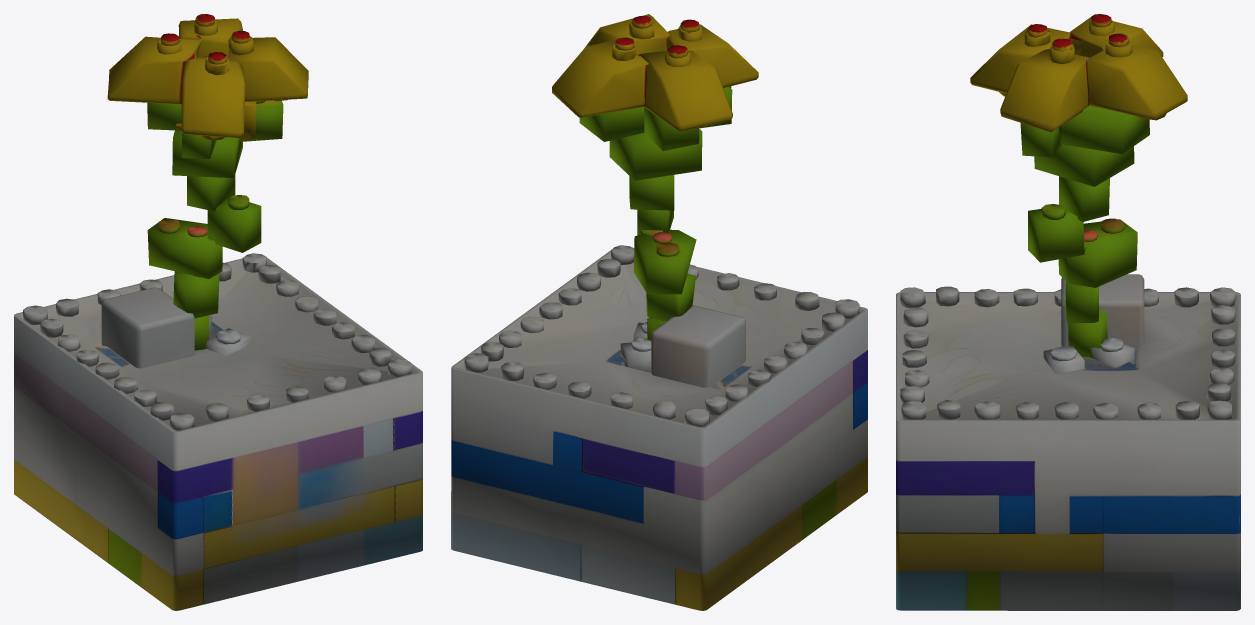
Rendered from object_22_asset_8559ed74.glb.
3 views of the same model, side by side, from view 1: azimuth 30°, elevation 25°; view 2: azimuth 150°, elevation 25°; view 3: azimuth 270°, elevation 25° (orthographic). The views are drawn at different scales.
Visible parts, largest first — view 1: tripo_node_47198490-3889-4f75-a846-d4458bcf2e5a; view 2: tripo_node_47198490-3889-4f75-a846-d4458bcf2e5a; view 3: tripo_node_47198490-3889-4f75-a846-d4458bcf2e5a.
Boxes of the visible parts, x1,y1,x2,y2 form: tripo_node_47198490-3889-4f75-a846-d4458bcf2e5a: (14,14,422,610); tripo_node_47198490-3889-4f75-a846-d4458bcf2e5a: (451,14,867,610); tripo_node_47198490-3889-4f75-a846-d4458bcf2e5a: (896,14,1240,610).
Bounding box in the file's own units: 0.541 × 0.998 × 0.6074.
1 material, 1 textured.
